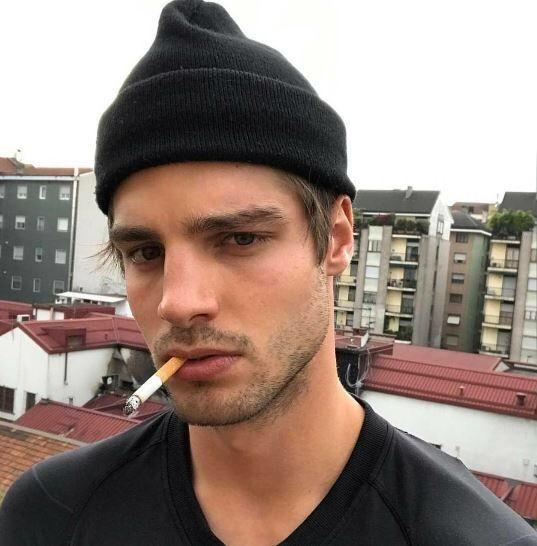cigarette: (123, 356, 189, 416)
